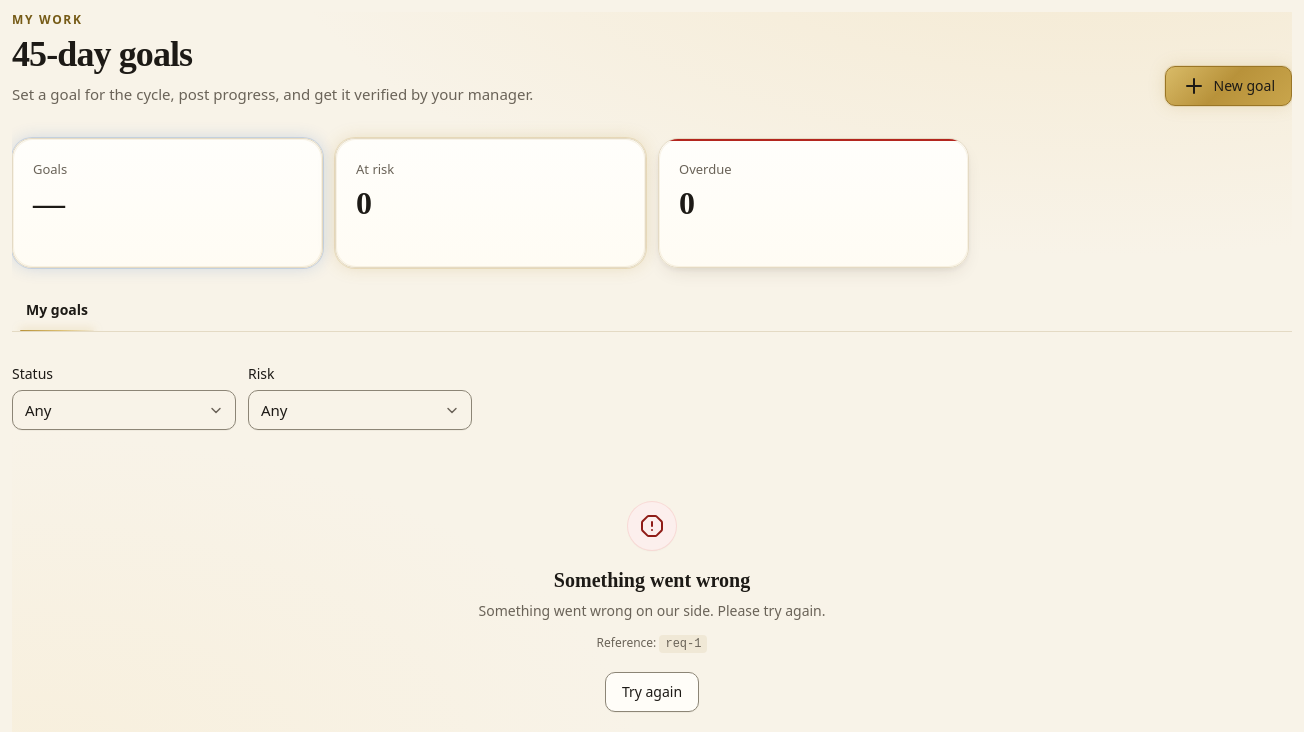
GoalsPage states › shows the error state and retries
Expected: the text "req-1" is shown, [659,635,707,653]
Click the button "Try again" at (652, 692), box [605,672,699,712]
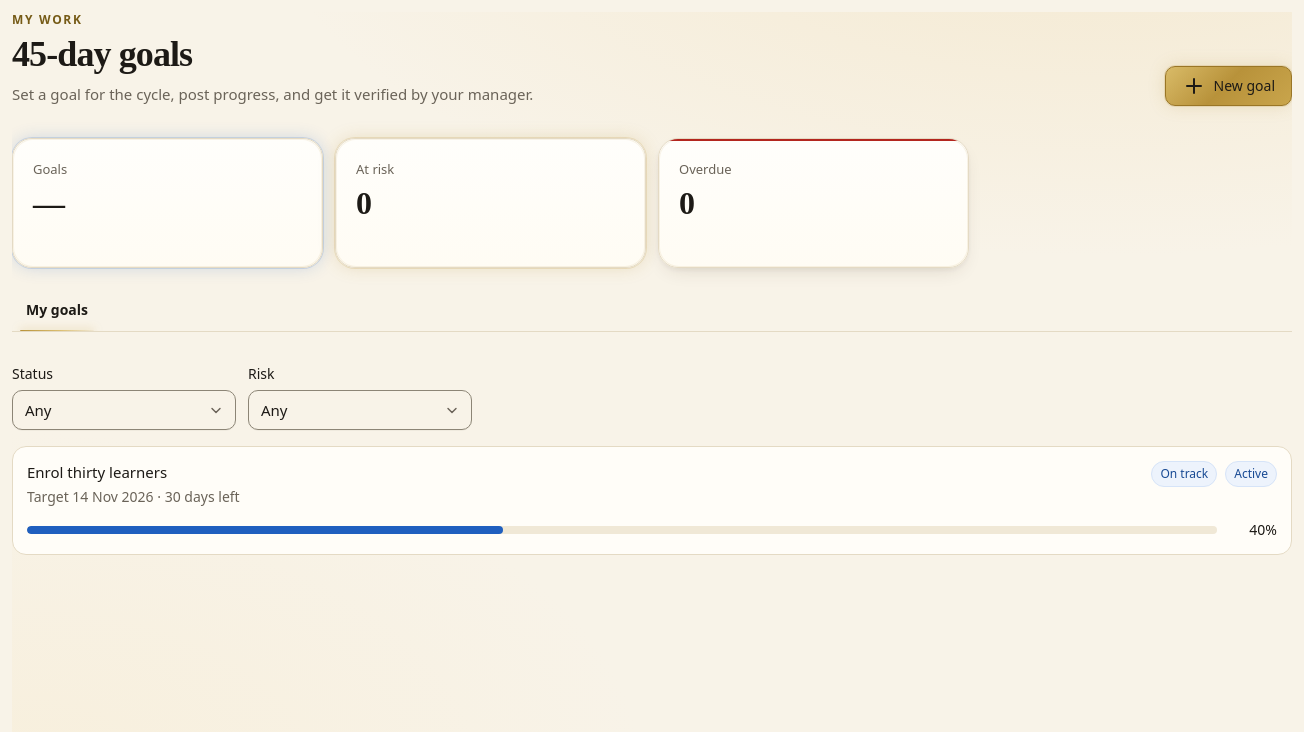
Expected: the link "Enrol thirty learners" is shown, [12,446,1292,555]
